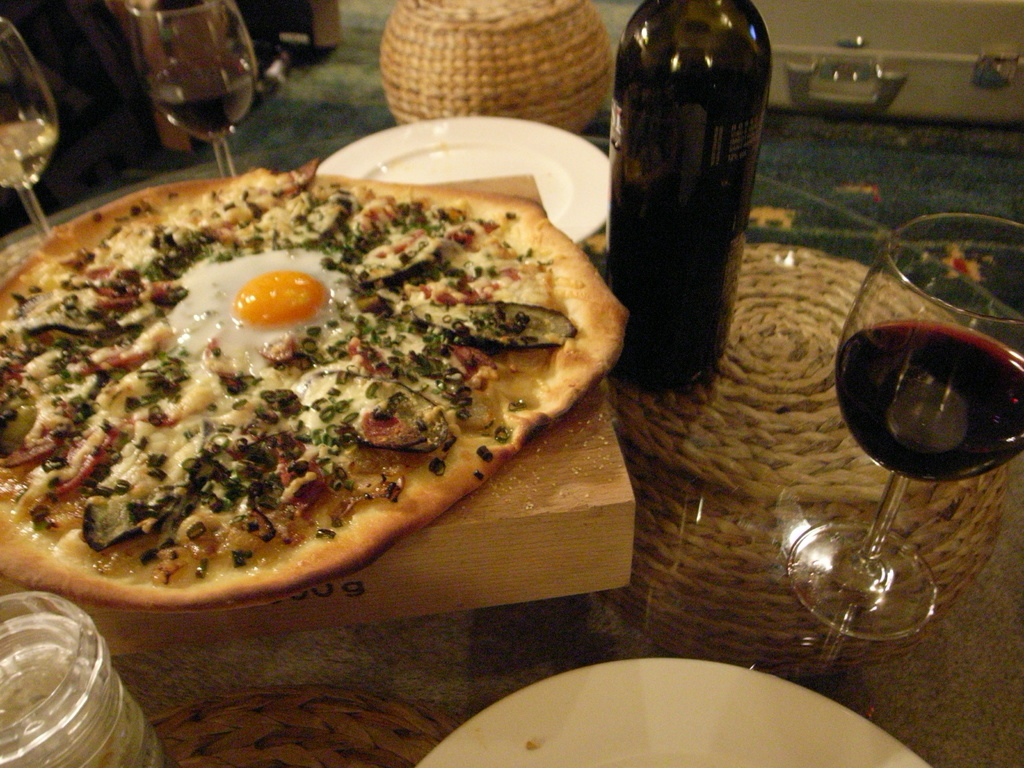Pizza: (0, 170, 637, 613)
